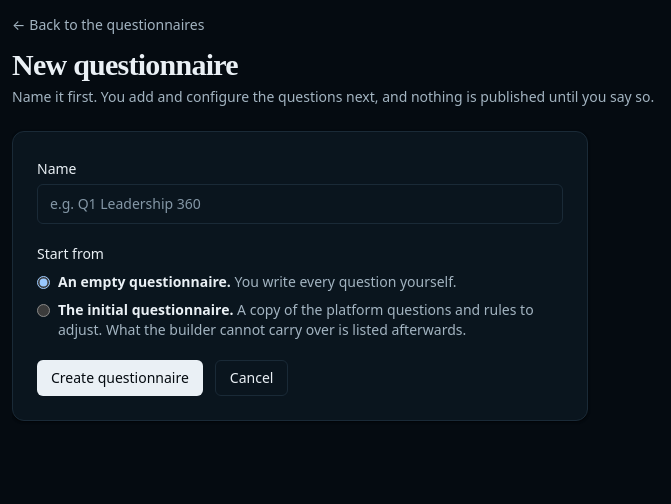
NewQuestionnairePage › shows why the server refused
The width and height of the screenshot is (671, 504).
Step 1. Type "Pulse" into the field labelled "Name" → (300,204), box [37,184,563,224]
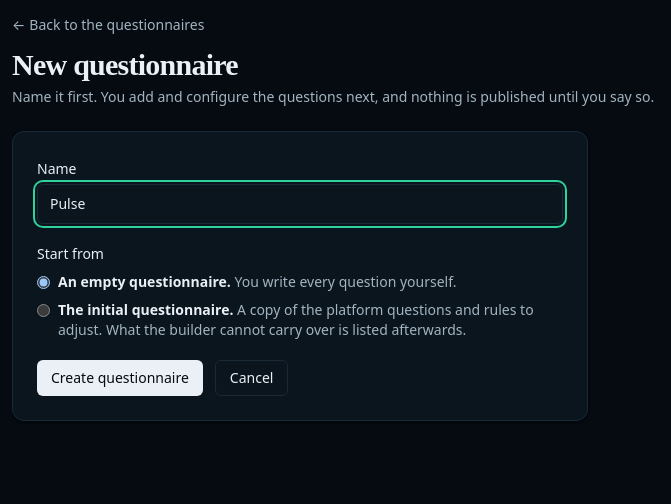
Step 2. Click the button "Create questionnaire" → (120,378), box [37,360,203,396]
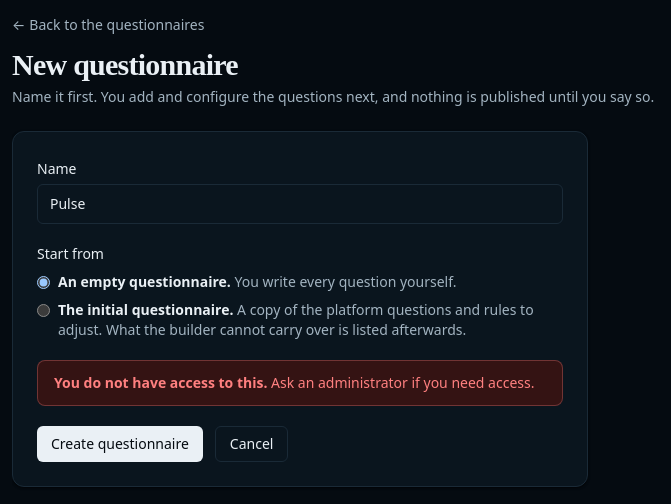
expect the text "You do not have access to this." is shown: met, box [54,373,267,392]
